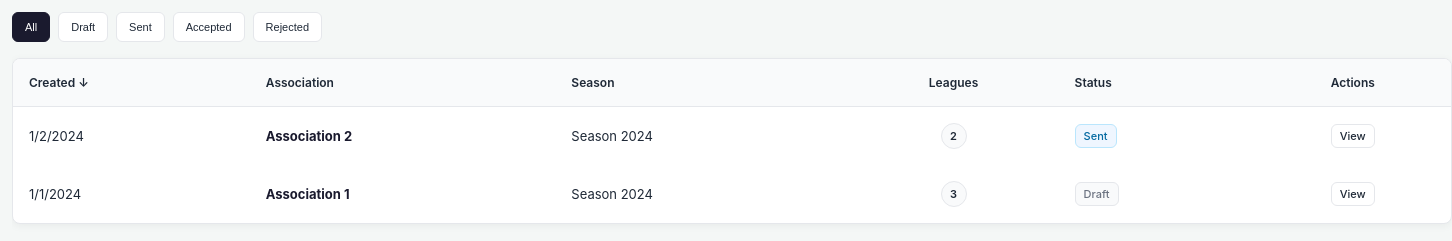
OfferTable › keeps filter buttons visible when a filter yields no results
Step 1. Click the button "Accepted" → [209, 27], box [173,12,245,42]
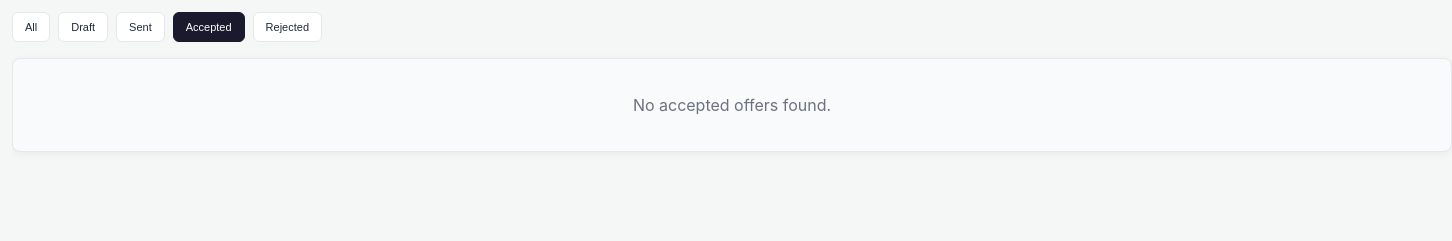
Expected: the button "All" is shown, [12,12,50,42]
Expected: the text "No accepted offers found." is shown, [633,95,831,115]
Note: And switching back to a populated filter restores the list
Step 2. Click the button "Sent" → [140, 27], box [116,12,165,42]
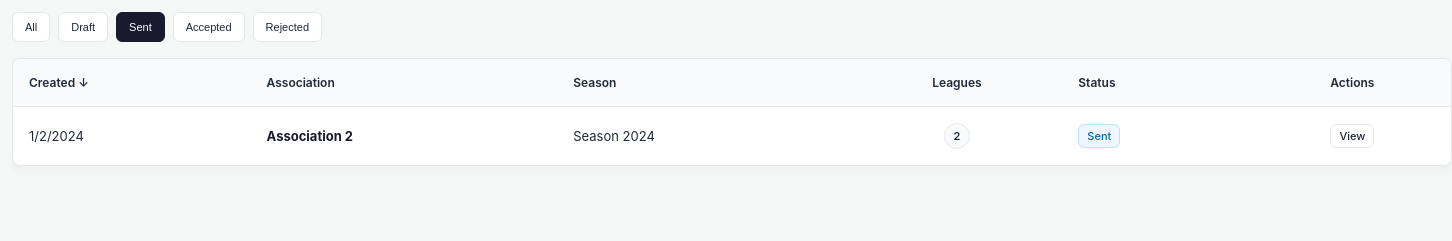
Expected: the text "Association 2" is shown, [267,128,353,144]
